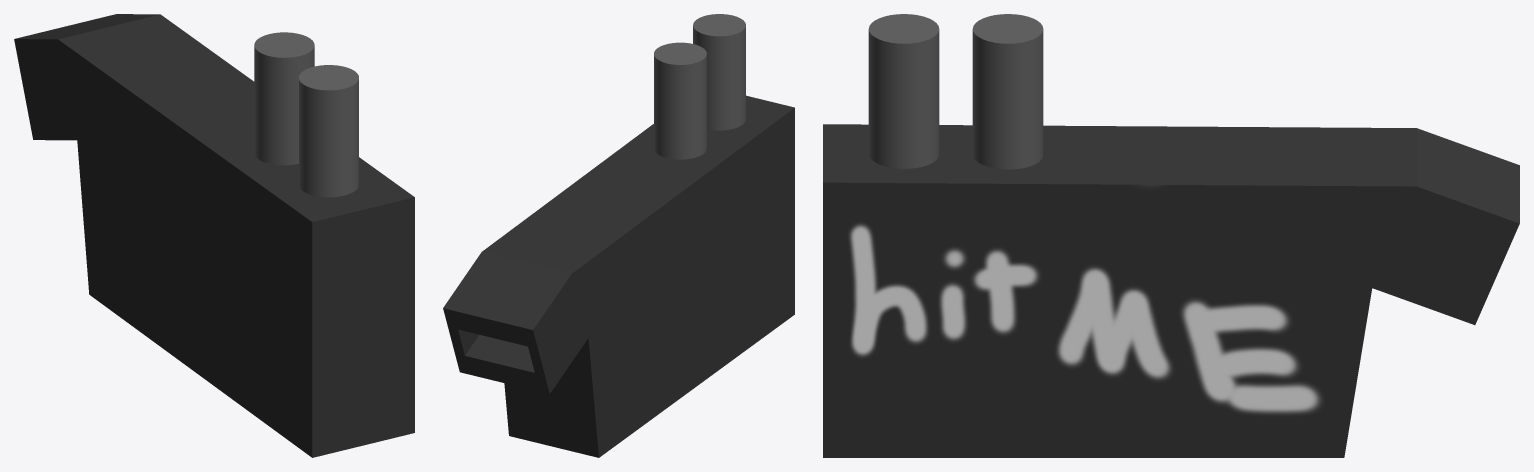
Rendered from theMachine.fbx.
3 views of the same model, side by side, from view 1: azimuth 30°, elevation 25°; view 2: azimuth 150°, elevation 25°; view 3: azimuth 270°, elevation 25° (orthographic). The views are drawn at different scales.
Parts seen in each view (by area): view 1: Cube, Cylinder, Cylinder.001; view 2: Cube, Cylinder.001, Cylinder; view 3: Cube, Cylinder.001, Cylinder.
Boxes of the visible parts, x1=… form: Cube: x1=14, y1=14, x2=414, y2=457; Cylinder: x1=299, y1=65, x2=358, y2=197; Cylinder.001: x1=254, y1=32, x2=314, y2=165; Cube: x1=443, y1=95, x2=794, y2=457; Cylinder.001: x1=654, y1=42, x2=706, y2=159; Cylinder: x1=693, y1=14, x2=745, y2=130; Cube: x1=823, y1=124, x2=1519, y2=457; Cylinder.001: x1=972, y1=14, x2=1043, y2=169; Cylinder: x1=868, y1=14, x2=939, y2=168.
Size of the model in its own units: 200 by 638 by 1008.
Materials: 2 (1 with a texture image).
